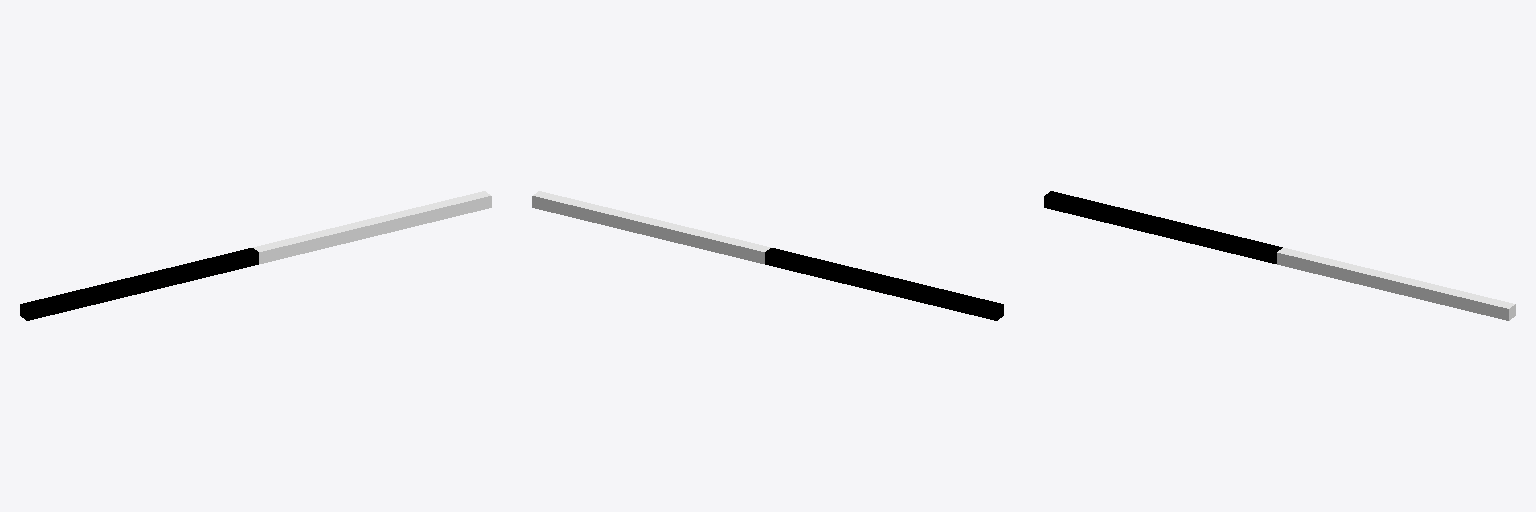
robot.urdf — 2link_robot:
<?xml version="1.0" ?>
<!-- =================================================================================== -->
<!-- |    This document was autogenerated by xacro from xacro/iiwa7.urdf.xacro         | -->
<!-- |    EDITING THIS FILE BY HAND IS NOT RECOMMENDED                                 | -->
<!-- =================================================================================== -->
<robot name="2link_robot">
	
	<material name="black">
		<color rgba="0 0 0 0.7"/>
	</material>
	<material name="white">
		<color rgba="1 1 1 0.7"/>
	</material>

    <link name="base">
    </link>

	<link name="arm1">
		<visual>
			<geometry>
				<box size="1 .05 .05"/>
			</geometry>
			<origin rpy="0 0 0" xyz="0.5 0 0"/>
			<material name="black"/>
		</visual>
		<collision>
			<geometry>
				<box size="1 .05 .05"/>
			</geometry>
			<origin rpy="0 0 0" xyz="0.5 0 0"/>
		</collision>
        <inertial>
            <origin rpy="0 0 0" xyz="0.5 0 0"/>
            <mass value="1"/>
            <inertia ixx="0.001" ixy="0.0" ixz="0.0" iyy="0.001" iyz="0.0" izz="0.001"/>
        </inertial>
	</link>

	<joint name="baseHinge" type="revolute">
        <origin rpy="0 0 0"  xyz="0 0 0.15"/>
		<axis xyz="0 0 1"/>
		<parent link="base"/>
		<child link="arm1"/>
		<limit effort="20" lower="-2.9670597283903604" upper="2.9670597283903604" velocity="10"/>
        <dynamics damping="0.5"/>
	</joint>

	<link name="arm2">
		<visual>
			<geometry>
				<box size="1 .05 .05"/>
			</geometry>
			<origin rpy="0 0 0" xyz="0.5 0 0"/>
			<material name="white"/>
		</visual>
		<collision>
			<geometry>
				<box size="1 .05 .05"/>
			</geometry>
			<origin rpy="0 0 0" xyz="0.5 0 0"/>
		</collision>
        <inertial>
            <origin rpy="0 0 0" xyz="0.5 0 0"/>
            <mass value="1"/>
            <inertia ixx="0.001" ixy="0.0" ixz="0.0" iyy="0.001" iyz="0.0" izz="0.001"/>
        </inertial>
	</link>

	<joint name="interArm" type="revolute">
		<axis xyz="0 0 1"/>
		<parent link="arm1"/>
		<child link="arm2"/>
		<origin rpy="0 0 0" xyz="1 0 0"/>
		<limit effort="20" lower="-2.9670597283903604" upper="2.9670597283903604" velocity="10"/>
        <dynamics damping="0.5"/>
	</joint>

	<link name="endEffector">
	    <inertial>
          <origin rpy="0 0 0" xyz="0 0 0"/>
          <mass value="0"/>
          <inertia ixx="0" ixy="0" ixz="0" iyy="0" iyz="0" izz="0"/>
        </inertial>

	</link>

	<joint name="ee_joint" type="fixed">
		<parent link="arm2"/>
		<child link="endEffector"/>
		<origin rpy="0 0 0" xyz="1 0 0.05"/>
	</joint>

</robot>

--- Facts derived from the render (not from the file) ---
The picture shows the robot from 3 angles, left to right: view 1: azimuth 30°, elevation 25°; view 2: azimuth 150°, elevation 25°; view 3: azimuth 330°, elevation 25°; orthographic projection.
Model 2link_robot with 4 links and 3 joints (2 revolute, 1 fixed), rooted at base, posed every joint at zero.
Links seen in each view (by area): view 1: arm1, arm2; view 2: arm1, arm2; view 3: arm2, arm1.
Link boxes in pixels (left/top/right/bottom): arm1: left=20, top=248, right=258, bottom=320; arm2: left=253, top=191, right=491, bottom=263; arm1: left=765, top=248, right=1003, bottom=320; arm2: left=532, top=191, right=770, bottom=263; arm2: left=1277, top=248, right=1515, bottom=320; arm1: left=1044, top=191, right=1282, bottom=263.
Bounding box of the posed robot: 2 × 0.05 × 0.05 m (x, y, z).
Geometry: primitives only (box / cylinder / sphere), no mesh files.
